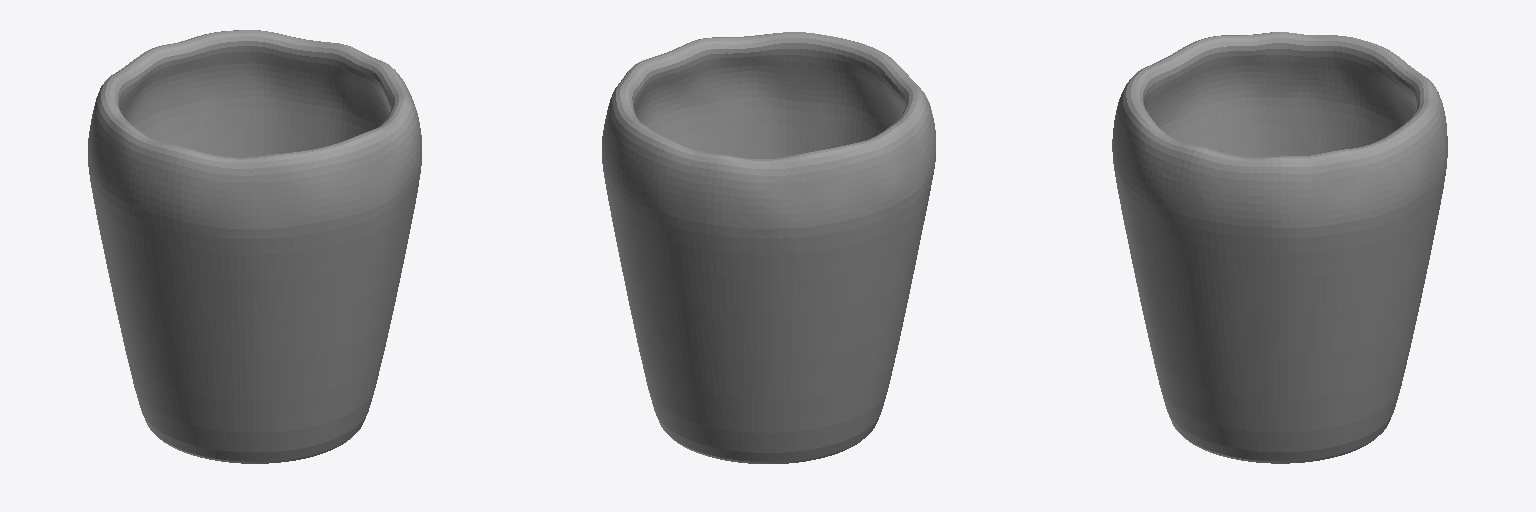
The model's file is aeobj.obj.
3 renders of one model, left to right at view 1: azimuth 30°, elevation 25°; view 2: azimuth 150°, elevation 25°; view 3: azimuth 270°, elevation 25°, orthographic.
Visible parts, largest first — view 1: Sphere; view 2: Sphere; view 3: Sphere.
Part boxes in pixels (x1,y1,x2,y2): Sphere: (88, 30, 421, 463); Sphere: (602, 32, 935, 463); Sphere: (1112, 32, 1447, 463).
Bounding box in the file's own units: 2 × 2.15 × 2.